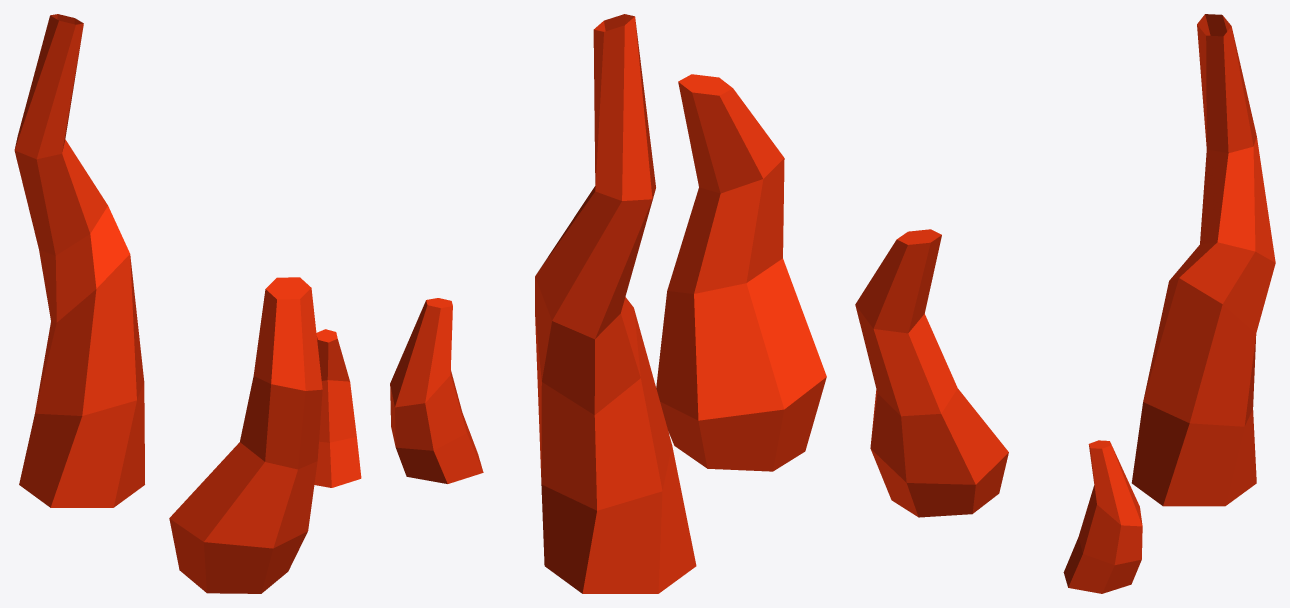
The model's file is st1_tree6.fbx.
3 renders of one model, left to right at view 1: azimuth 30°, elevation 25°; view 2: azimuth 150°, elevation 25°; view 3: azimuth 270°, elevation 25°, orthographic. The views are drawn at different scales.
Parts seen in each view (by area): view 1: 6_tree; view 2: 6_tree; view 3: 6_tree.
Boxes of the visible parts, box(x1,y1,x2,y2) form: 6_tree: box(14, 14, 361, 593); 6_tree: box(390, 14, 826, 593); 6_tree: box(855, 14, 1275, 593).
Bounding box in the file's own units: 65.32 × 105 × 86.31.
